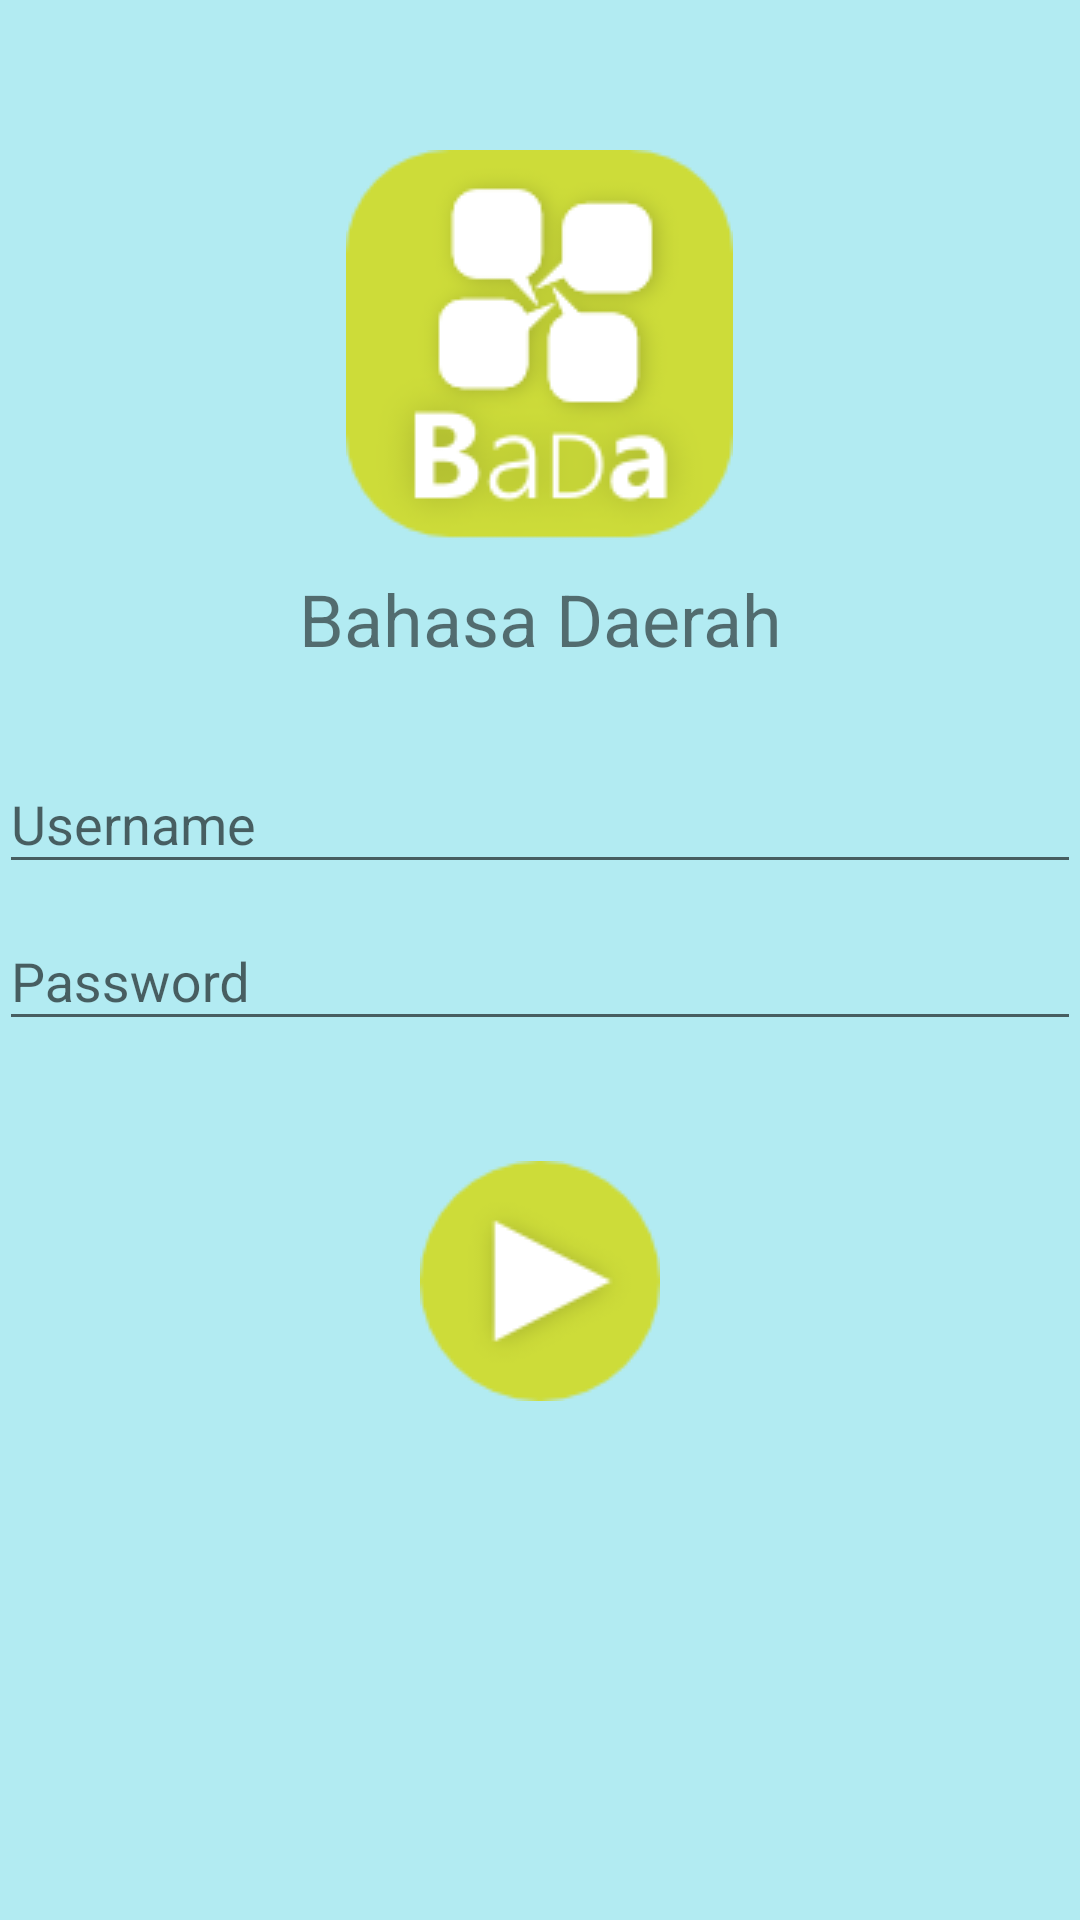

Where icons sit on this 1080x1920 app screen, as (x1, y1, x2, y2):
play: (420, 1161, 660, 1401)
